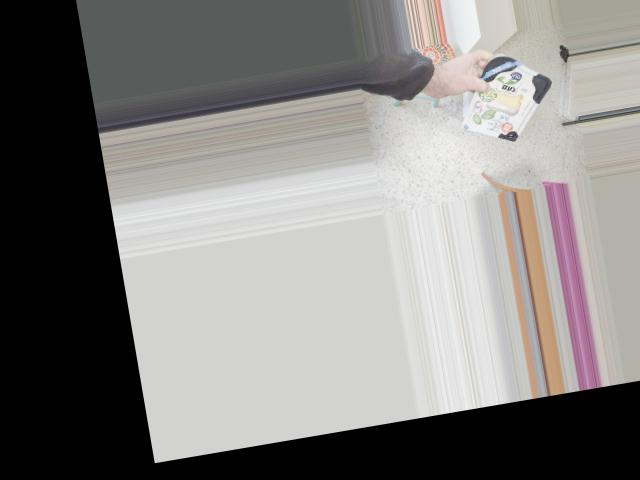cheese: (457, 44, 559, 156)
